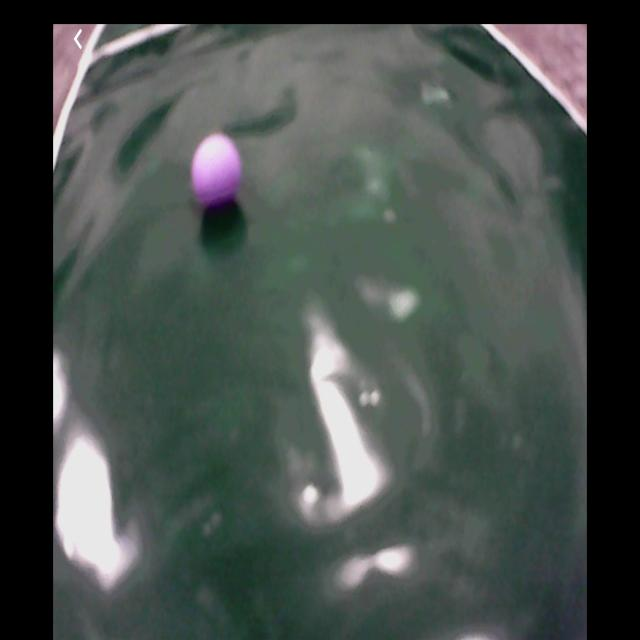ball: (194, 136, 242, 211)
